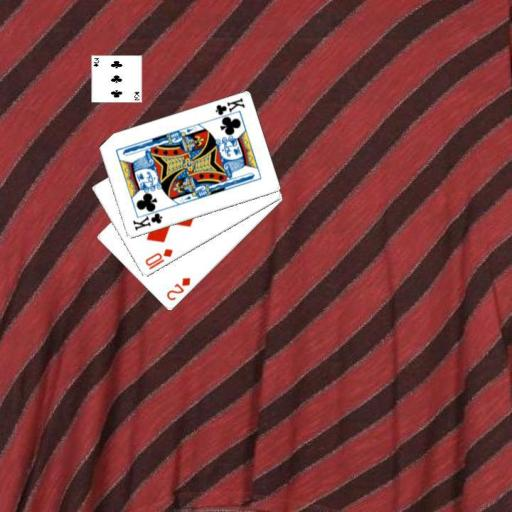10D: (142, 245, 174, 271)
2D: (163, 275, 192, 302)
KC: (130, 205, 165, 232), (211, 95, 246, 122)
